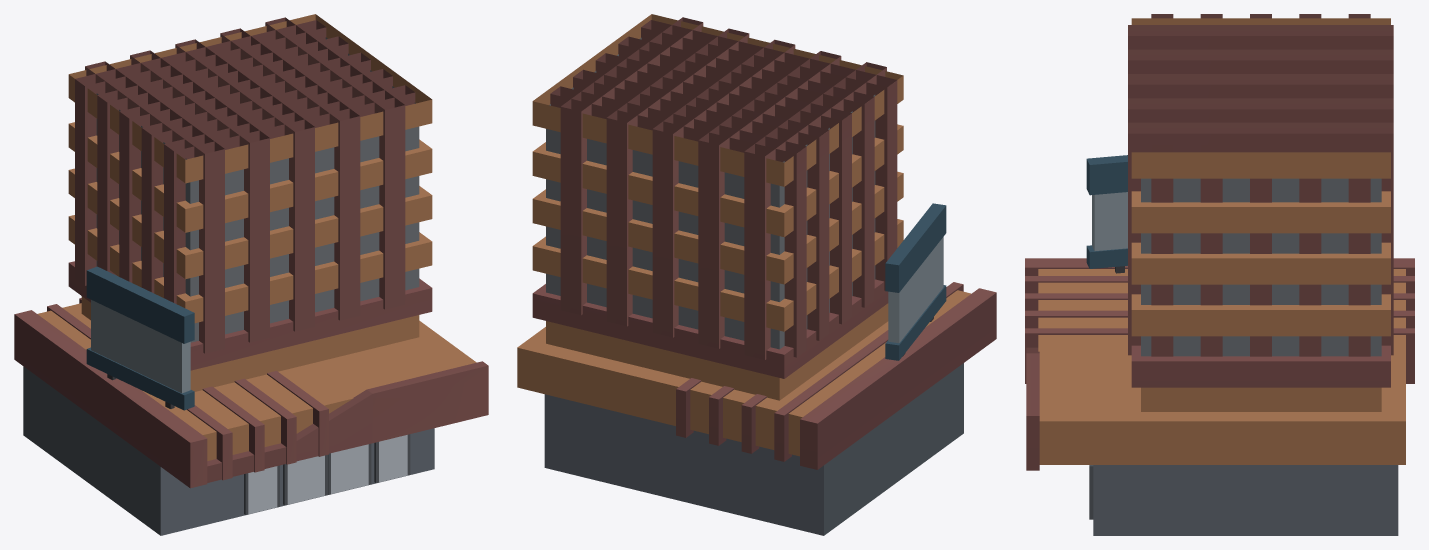
File: Building_06.fbx
The picture shows the model from 3 angles, left to right: view 1: azimuth 30°, elevation 25°; view 2: azimuth 150°, elevation 25°; view 3: azimuth 270°, elevation 25°; orthographic projection. The views are drawn at different scales.
Parts seen in each view (by area): view 1: polySurface1948; view 2: polySurface1948; view 3: polySurface1948.
Part boxes in pixels (x1,y1,x2,y2): polySurface1948: (14, 14, 488, 535); polySurface1948: (517, 14, 996, 535); polySurface1948: (1025, 14, 1414, 535).
Bounding box in the file's own units: 2.15 × 2.42 × 2.16.
